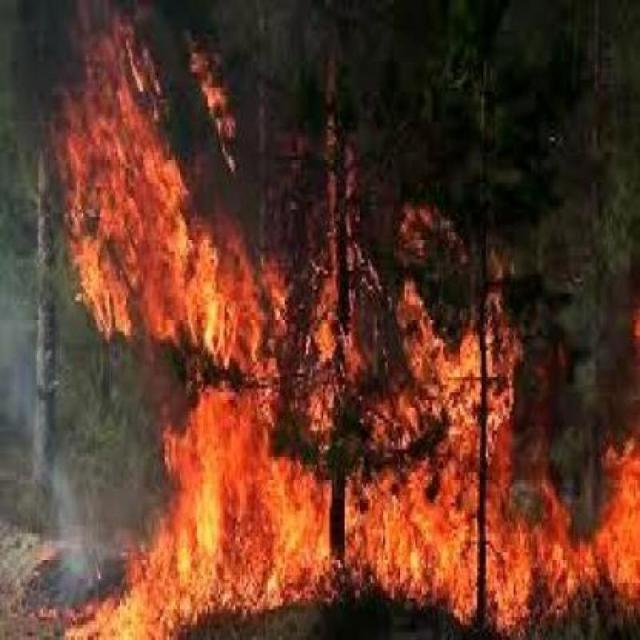Fire: (31, 57, 638, 640)
